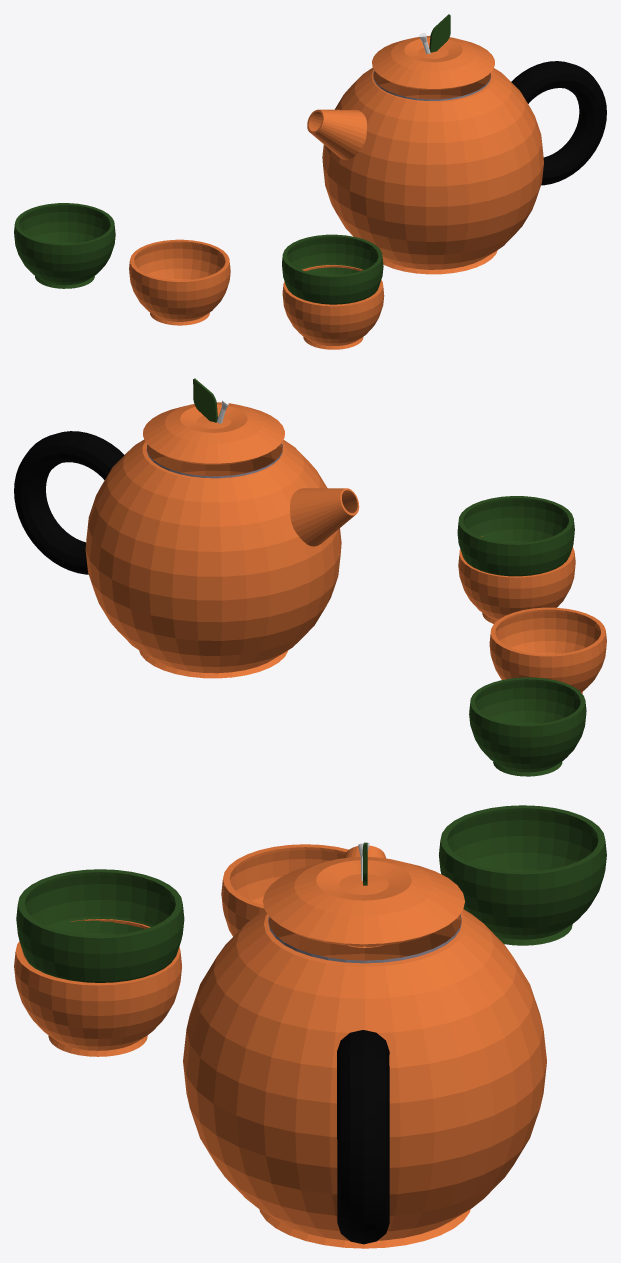
Rendered from fruity teapot.glb.
The picture shows the model from 3 angles, top to bottom: view 1: azimuth 30°, elevation 25°; view 2: azimuth 150°, elevation 25°; view 3: azimuth 270°, elevation 25°; orthographic projection. The views are drawn at different scales.
Parts seen in each view (by area): view 1: pot, Cups.003, Cups.002, Cups.001, handle, lid, Cups, Circle, leaf; view 2: pot, Cups.002, Cups.001, Cups.003, handle, lid, Cups, Circle, leaf; view 3: pot, Cups.002, Cups.001, lid, Cups, handle, Cups.003, metal part.
Part boxes in pixels (x1,y1,x2,y2): pot: (322, 67, 543, 274); Cups.003: (129, 239, 230, 325); Cups.002: (14, 203, 115, 288); Cups.001: (282, 234, 383, 304); handle: (511, 61, 606, 185); lid: (372, 36, 494, 89); Cups: (282, 265, 384, 349); Circle: (307, 109, 366, 160); leaf: (429, 14, 450, 52); pot: (85, 439, 341, 678); Cups.002: (469, 677, 586, 776); Cups.001: (457, 496, 574, 576); Cups.003: (489, 607, 606, 693); handle: (14, 431, 124, 574); lid: (143, 402, 284, 464); Cups: (458, 536, 575, 623); Circle: (290, 488, 359, 546); leaf: (193, 378, 217, 422); pot: (183, 909, 546, 1248); Cups.002: (439, 805, 606, 945); Cups.001: (16, 869, 184, 982); lid: (263, 857, 464, 946); Cups: (14, 919, 181, 1056); handle: (337, 1030, 389, 1244); Cups.003: (221, 844, 348, 936); metal part: (268, 914, 461, 963).
Size of the model in its own units: 5.56 by 2.27 by 3.26.
